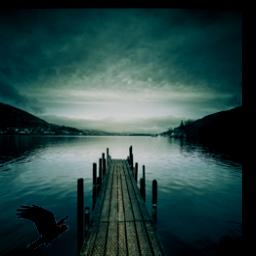Crow: (15, 203, 69, 249)
